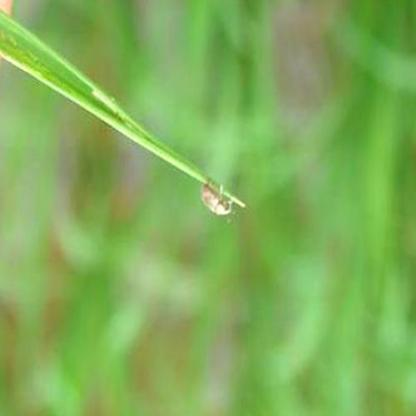rice-bug: (199, 179, 237, 217)
